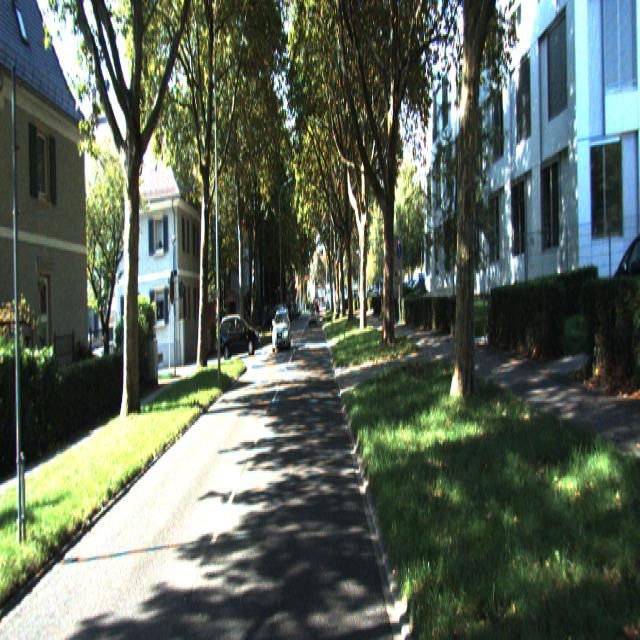Car: (218, 313, 261, 361), (271, 309, 291, 350)
